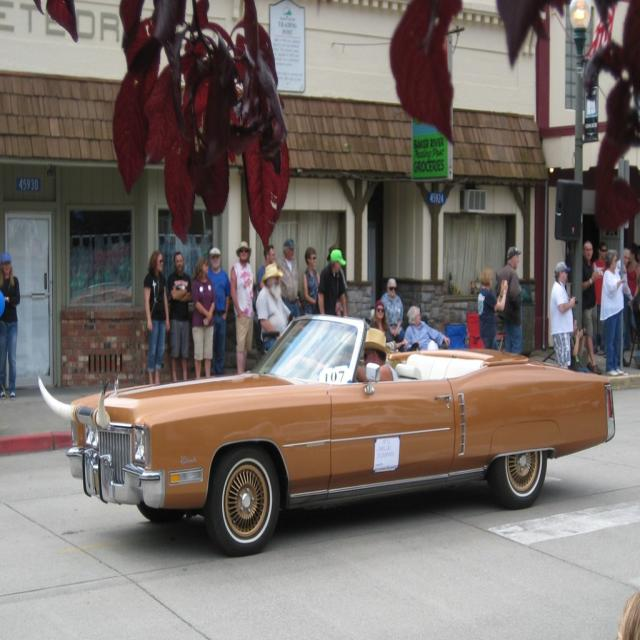car: (37, 312, 614, 554)
